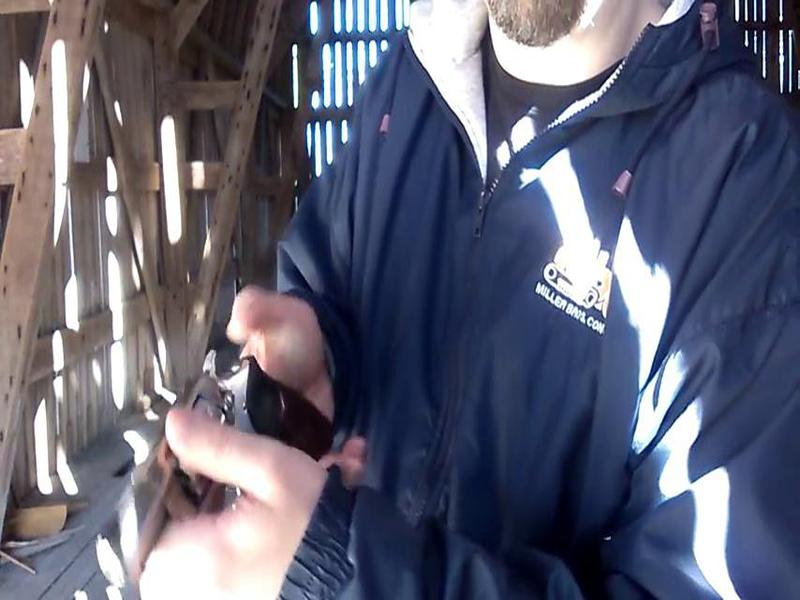Revolver: (55, 334, 392, 592)
